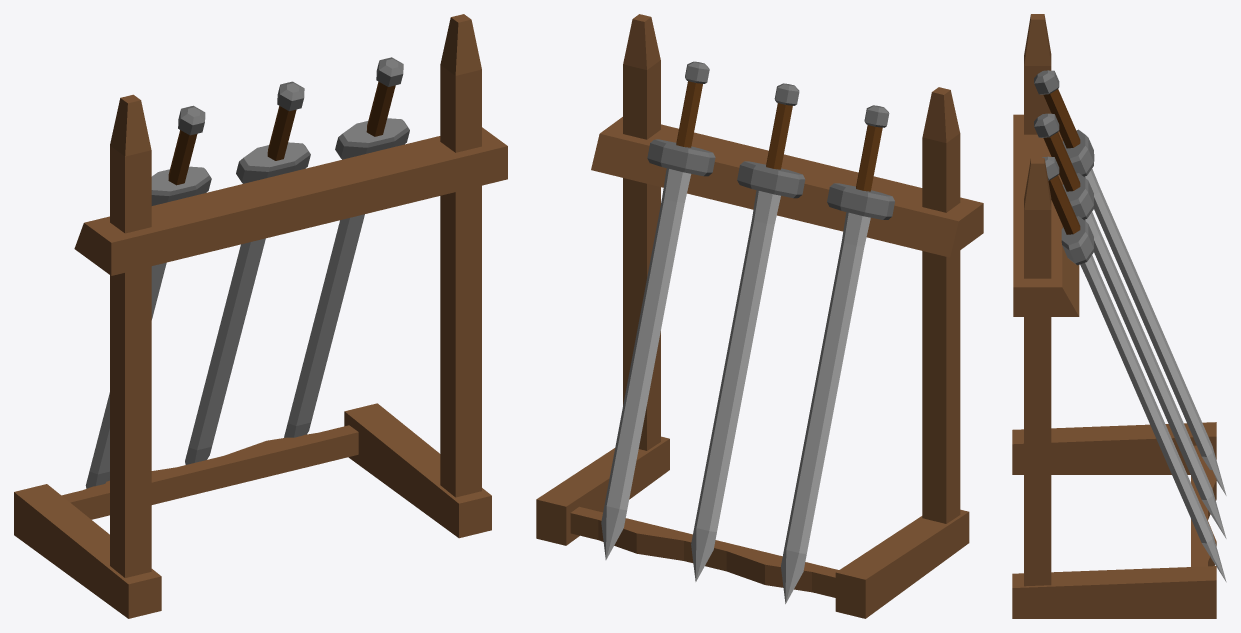
Rendered from SwordRack.fbx.
The picture shows the model from 3 angles, left to right: view 1: azimuth 30°, elevation 25°; view 2: azimuth 150°, elevation 25°; view 3: azimuth 270°, elevation 25°; orthographic projection. The views are drawn at different scales.
Parts seen in each view (by area): view 1: Cube.005, Cylinder.011, Cylinder.006, Cylinder.001; view 2: Cube.005, Cylinder.006, Cylinder.011, Cylinder.001; view 3: Cube.005, Cylinder.006, Cylinder.011, Cylinder.001.
Boxes of the visible parts, x1,y1,x2,y2 form: Cube.005: (14, 14, 507, 618); Cylinder.011: (185, 81, 310, 464); Cylinder.006: (284, 57, 409, 437); Cylinder.001: (85, 105, 211, 488); Cube.005: (536, 14, 983, 618); Cylinder.006: (601, 61, 715, 559); Cylinder.011: (691, 83, 805, 581); Cylinder.001: (781, 105, 894, 603); Cube.005: (1012, 14, 1216, 618); Cylinder.006: (1042, 156, 1226, 582); Cylinder.011: (1034, 113, 1226, 538); Cylinder.001: (1034, 70, 1226, 495).
Size of the model in its own units: 3.02 by 1.59 by 3.68.
